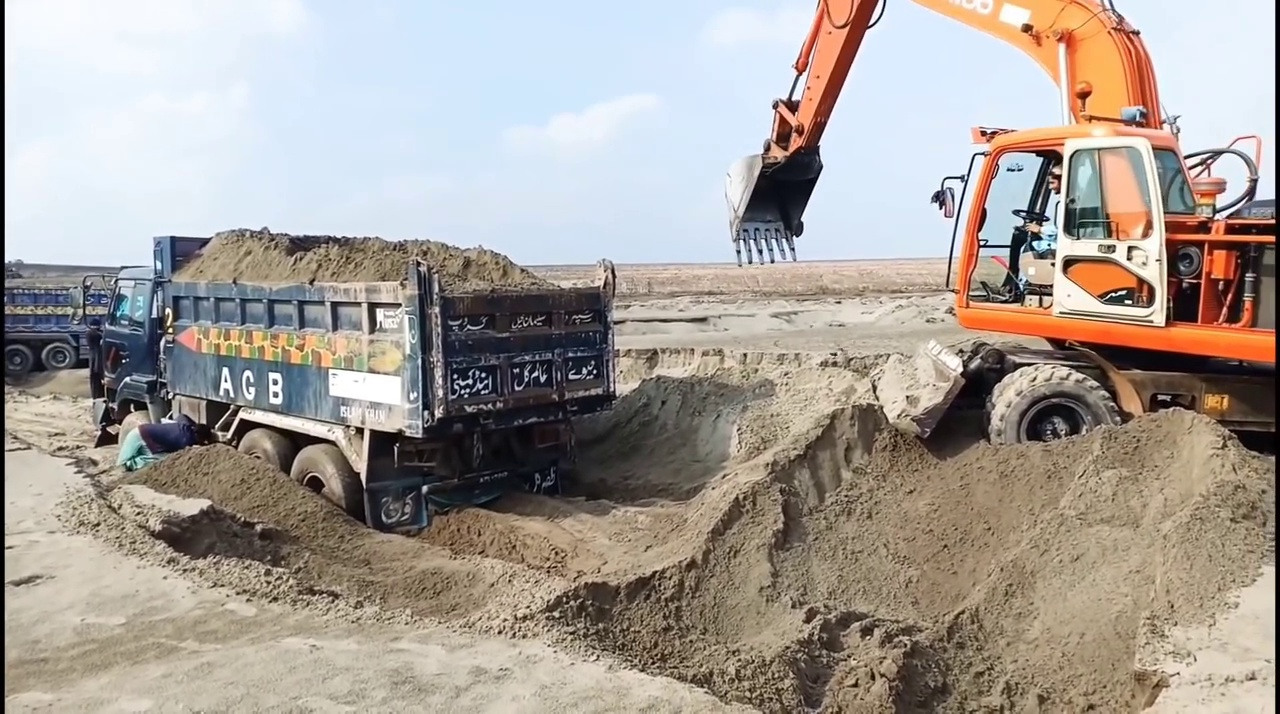excavator: (720, 1, 1280, 447)
truck: (83, 232, 619, 530), (5, 264, 106, 377)
